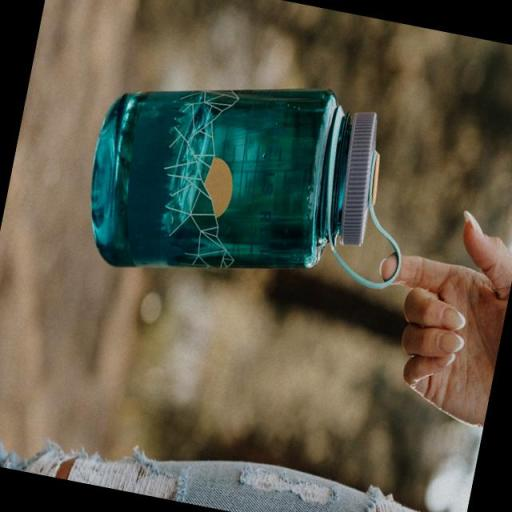bottle: (73, 44, 434, 322)
